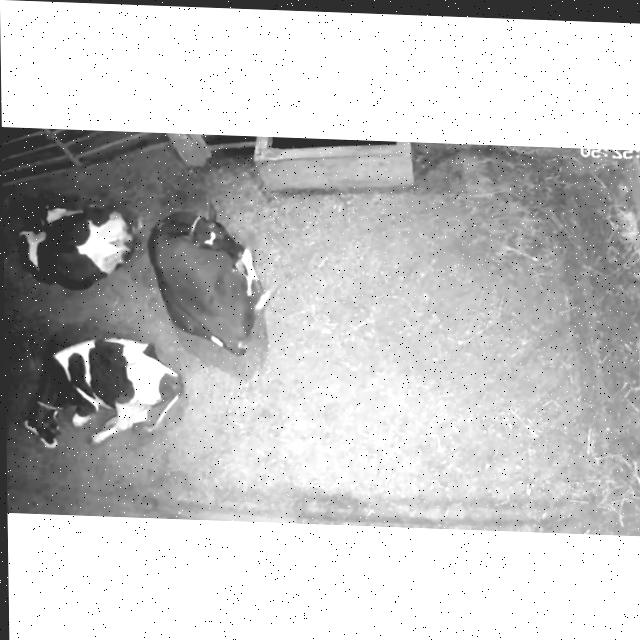lay: (7, 329, 192, 474), (144, 196, 276, 363), (7, 186, 140, 300)
